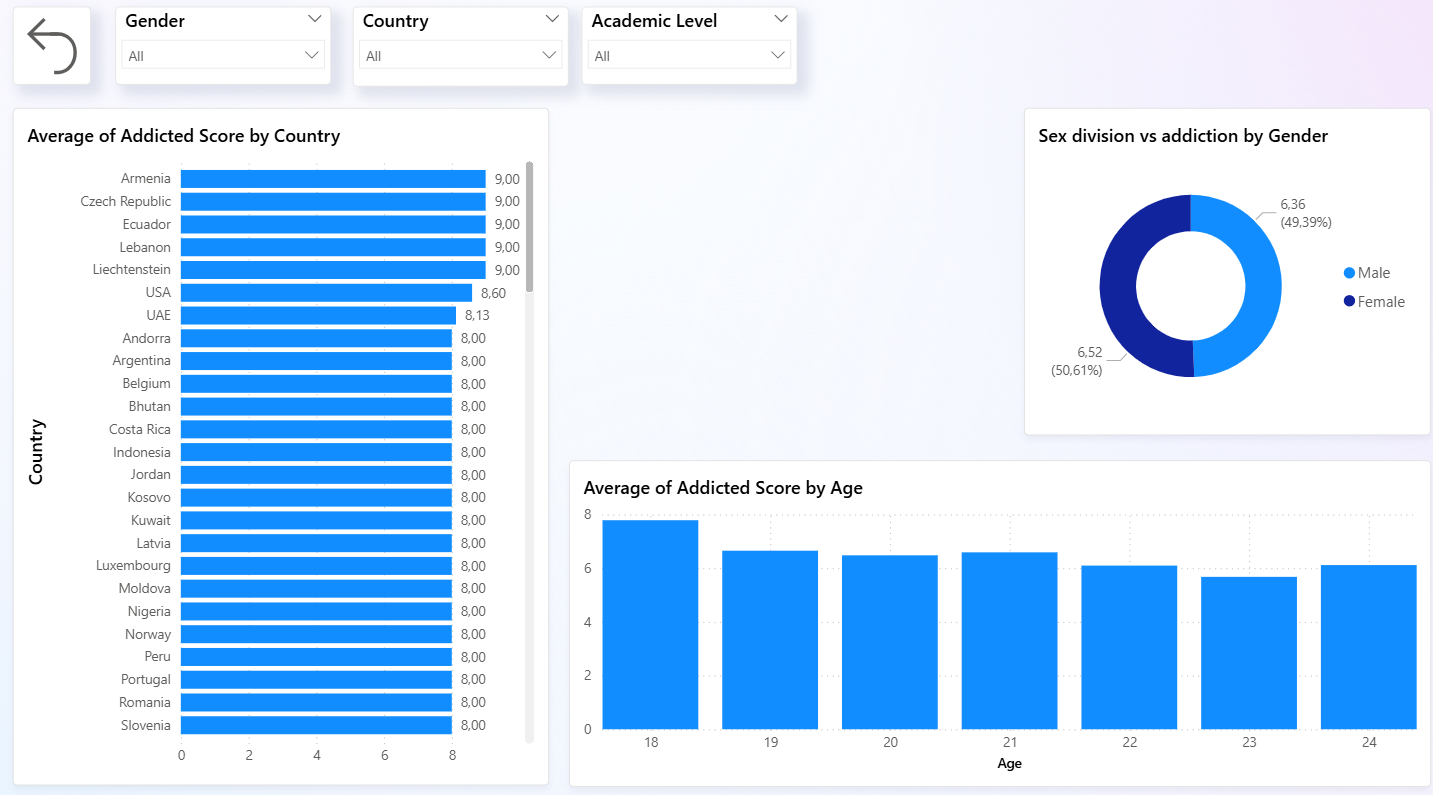

What the dashboard file says about the page in this screenshot:
{"tool":"powerbi","page":{"name":"Demographics & Addiction","canvas":[1280,720],"ordinal":1},"visuals":[{"type":"slicer","fields":{"Values":["Students Social Media Addiction.Gender"]},"box":[103.5,11.2,192.1,69.9],"z":0},{"type":"slicer","fields":{"Values":["Students Social Media Addiction.Country"]},"box":[314.4,11.2,192.1,71.1],"z":1000},{"type":"slicer","fields":{"Values":["Students Social Media Addiction.Academic_Level"]},"box":[517.7,11.2,192.1,69.9],"z":2000},{"type":"donutChart","fields":{"Category":["Students Social Media Addiction.Gender"],"Y":["Avg(Students Social Media Addiction.Addicted_Score)"]},"box":[911.6,101.2,361.8,291],"z":3000},{"type":"barChart","fields":{"Y":["Avg(Students Social Media Addiction.Addicted_Score)"],"Category":["Students Social Media Addiction.Country"]},"box":[12.5,101.1,476.6,602.6],"z":4000},{"type":"clusteredColumnChart","fields":{"Category":["Students Social Media Addiction.Age"],"Y":["Avg(Students Social Media Addiction.Addicted_Score)"]},"box":[506.8,413.9,766.7,290.5],"z":5000},{"type":"actionButton","box":[12.5,11.2,69.9,69.9],"z":6000}]}

Visuals, with their boxes in screenshot pixels (x1, y1, x2, y2), scaled from the page's 1280x720 canvas onto the 1433x795 screenshot:
slicer - Students Social Media Addiction.Gender: x1=116, y1=12, x2=331, y2=90
slicer - Students Social Media Addiction.Country: x1=352, y1=12, x2=567, y2=91
slicer - Students Social Media Addiction.Academic_Level: x1=580, y1=12, x2=795, y2=90
donutChart - Students Social Media Addiction.Gender x Avg(Students Social Media Addiction.Addicted_Score): x1=1021, y1=112, x2=1426, y2=433
barChart - Avg(Students Social Media Addiction.Addicted_Score) x Students Social Media Addiction.Country: x1=14, y1=112, x2=548, y2=777
clusteredColumnChart - Students Social Media Addiction.Age x Avg(Students Social Media Addiction.Addicted_Score): x1=567, y1=457, x2=1426, y2=778
actionButton: x1=14, y1=12, x2=92, y2=90
